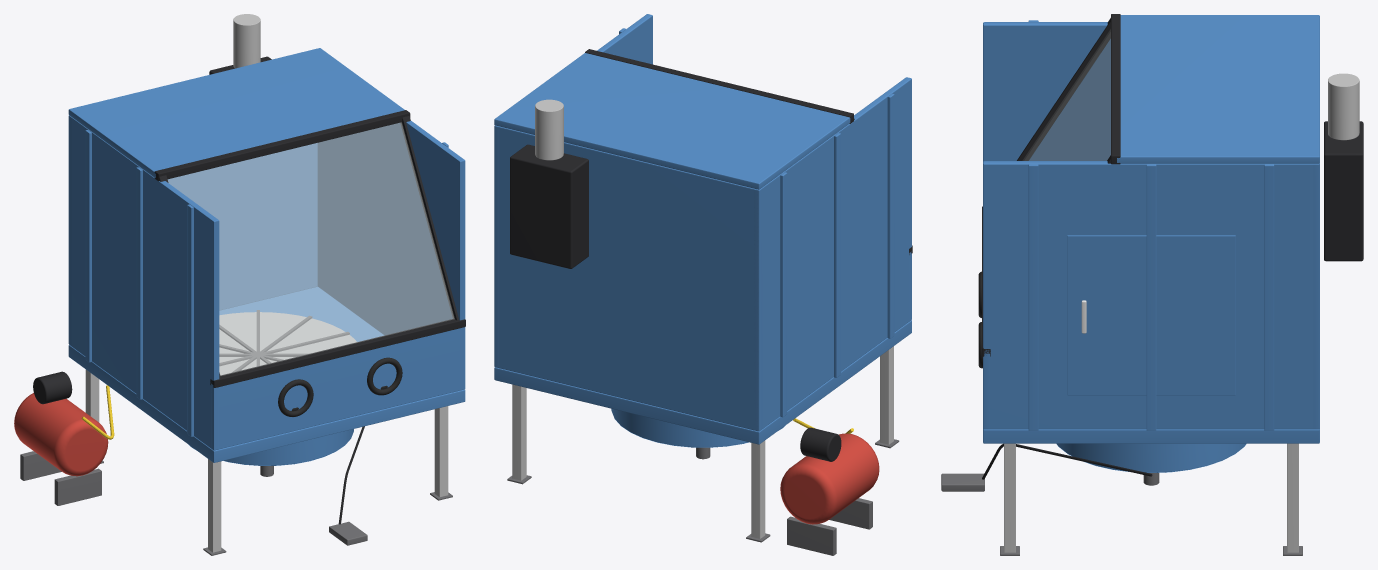
Rendered from blaster_cabinet.glb.
3 views of the same model, side by side, from view 1: azimuth 30°, elevation 25°; view 2: azimuth 150°, elevation 25°; view 3: azimuth 270°, elevation 25° (orthographic). The views are drawn at different scales.
Visible parts, largest first — view 1: SM_blaster_cabinet; view 2: SM_blaster_cabinet; view 3: SM_blaster_cabinet.
Boxes of the visible parts, x1,y1,x2,y2 form: SM_blaster_cabinet: (14,14,465,555); SM_blaster_cabinet: (494,14,912,555); SM_blaster_cabinet: (941,14,1363,555).
Size of the model in its own units: 2.16 by 2.47 by 2.13.
